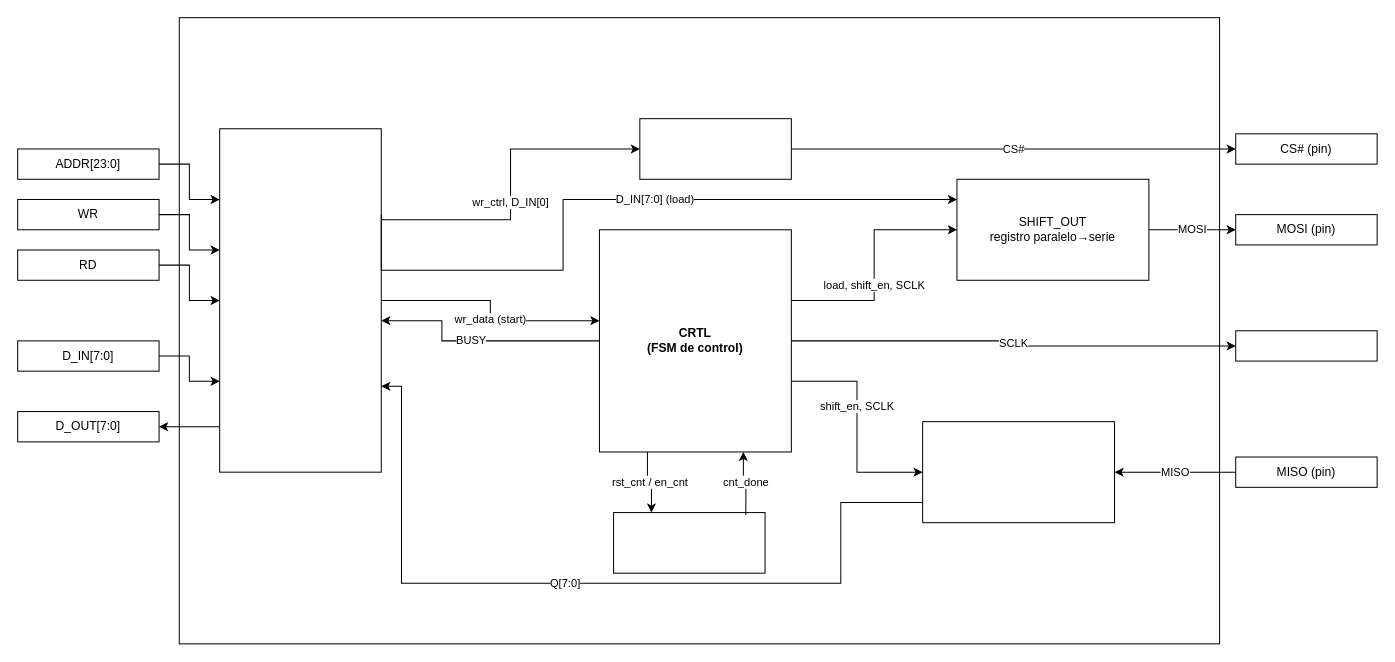
This 1395x662 diagram has some shape labels left out. Here are the shapes that lost their labels. From the top down, the centre of each, then its label:
At pixel 715 148: "ctrl seleccion (1 bit: CS#)".
At pixel 300 300: "BUS_IF (interfaz con el bus)".
At pixel 1306 345: "SCLK (pin)".
At pixel 1018 472: "SHIFT_IN registro serie→paralelo".
At pixel 689 542: "BIT_COUNT (contador 0-7)".
